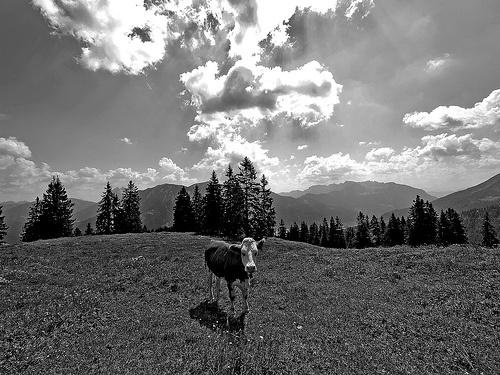cow: (203, 238, 266, 317)
